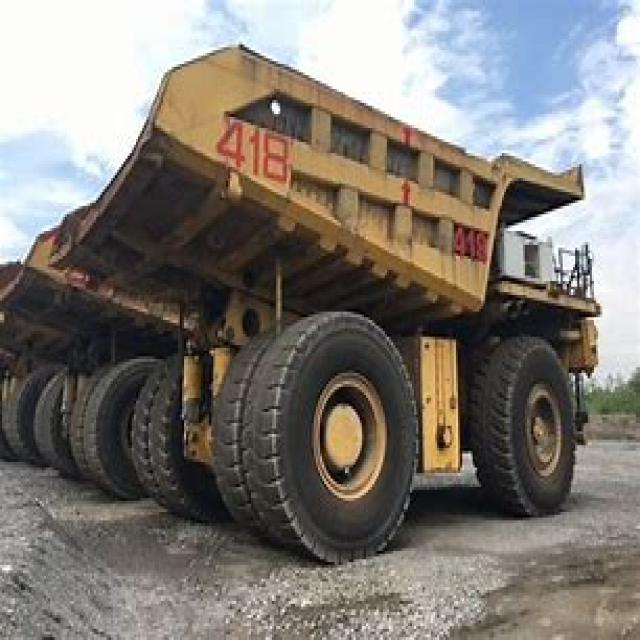dump_truck: (55, 36, 604, 559)
